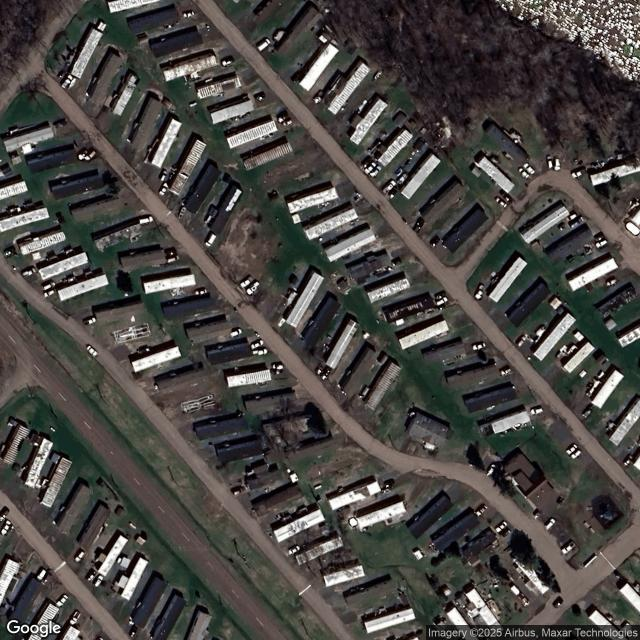Propane: (129, 522, 137, 530), (314, 484, 323, 491), (49, 426, 57, 433), (189, 102, 197, 108)
